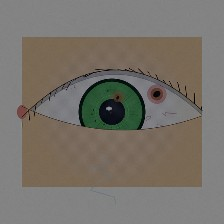foreign_body_visible: (137, 79, 176, 110)
